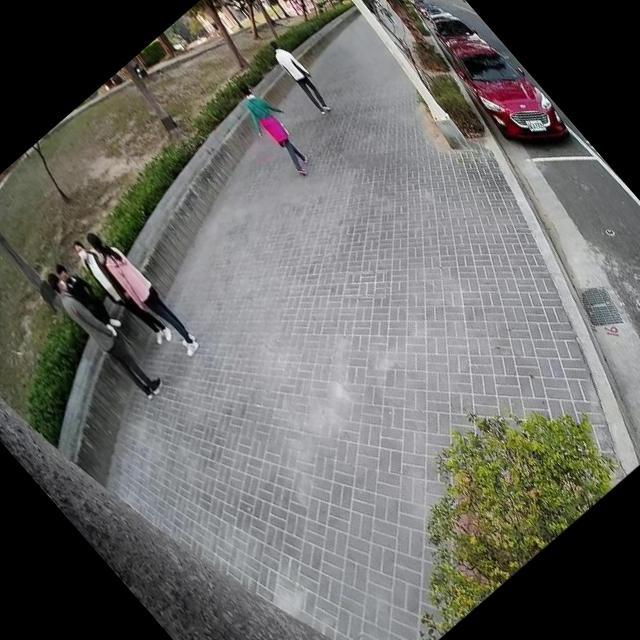person: (33, 258, 169, 408), (76, 220, 208, 366), (57, 226, 176, 356), (223, 70, 327, 182), (45, 254, 128, 344), (259, 31, 339, 119)
